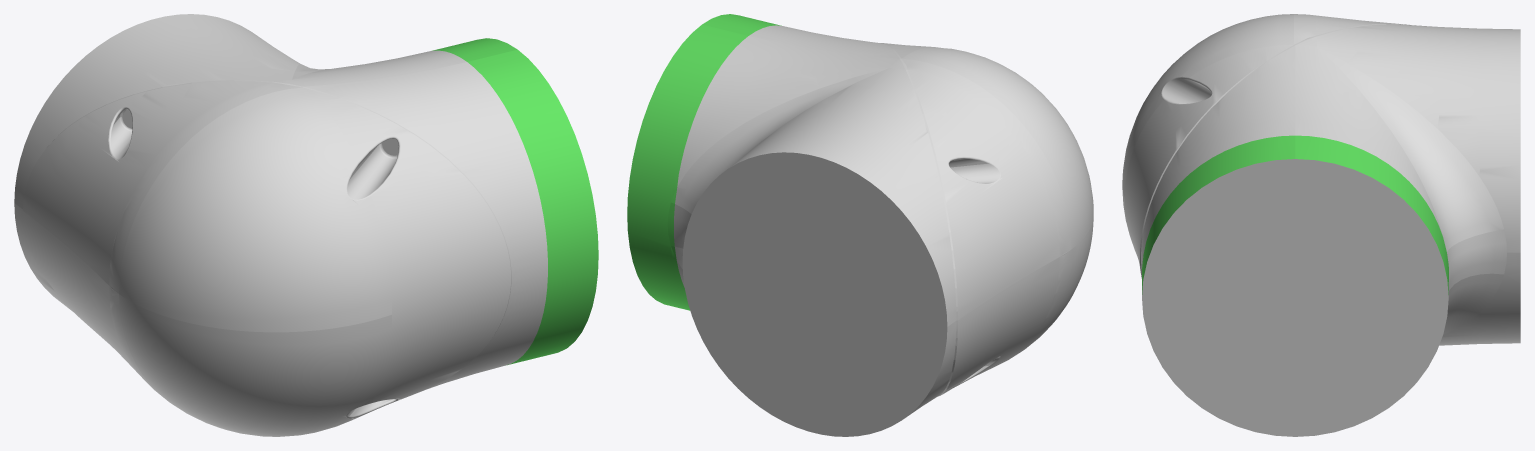
3 views of the same model, side by side, from view 1: azimuth 30°, elevation 25°; view 2: azimuth 150°, elevation 25°; view 3: azimuth 270°, elevation 25° (orthographic). The views are drawn at different scales.
Visible parts, largest first — view 1: Mesh_0; view 2: Mesh_0; view 3: Mesh_0.
Boxes of the visible parts, box(x1,y1,x2,y2) form: Mesh_0: box(14, 14, 598, 436); Mesh_0: box(627, 14, 1093, 436); Mesh_0: box(1122, 14, 1520, 436).
Bounding box in the file's own units: 0.1184 × 0.1078 × 0.093.
